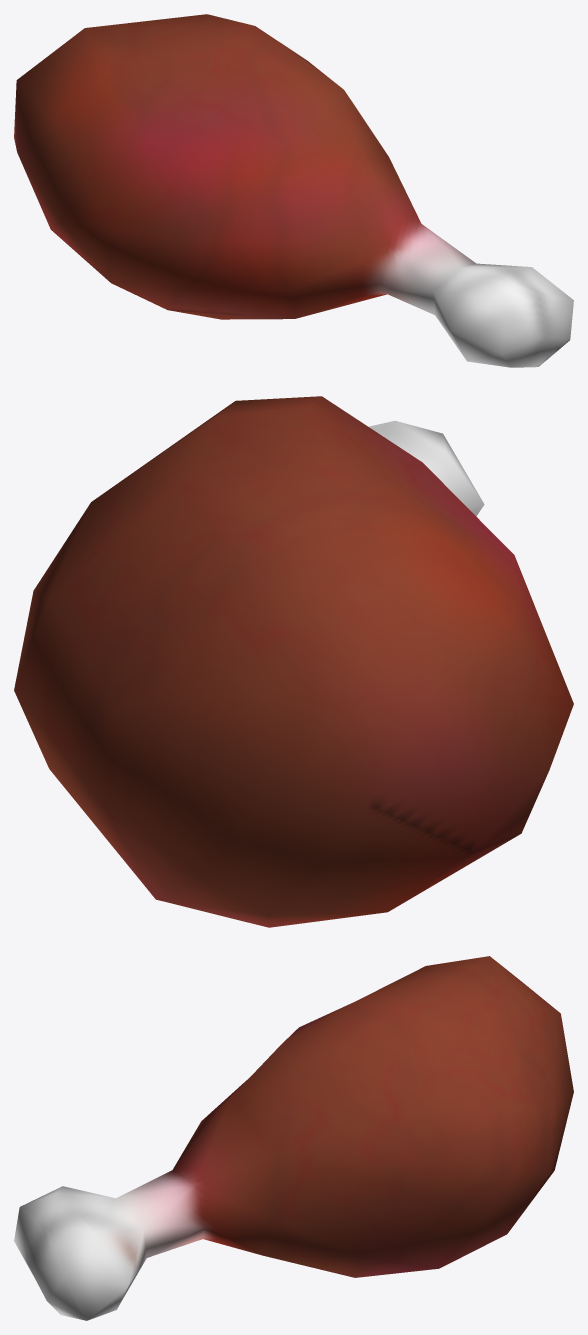
Rendered from meat.glb.
3 views of the same model, one above another, from view 1: azimuth 30°, elevation 25°; view 2: azimuth 150°, elevation 25°; view 3: azimuth 270°, elevation 25° (orthographic). The views are drawn at different scales.
Visible parts, largest first — view 1: Object_3; view 2: Object_3; view 3: Object_3.
Part boxes in pixels (box(x1,y1,x2,y2)): Object_3: box(14, 14, 573, 367); Object_3: box(14, 396, 573, 927); Object_3: box(14, 956, 573, 1320).
Size of the model in its own units: 0.7814 by 0.5744 by 1.09.
Materials: 1 (1 with a texture image).
